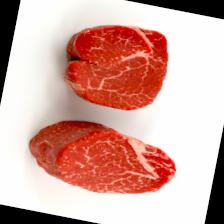meat: (20, 110, 182, 208), (55, 13, 174, 117)
